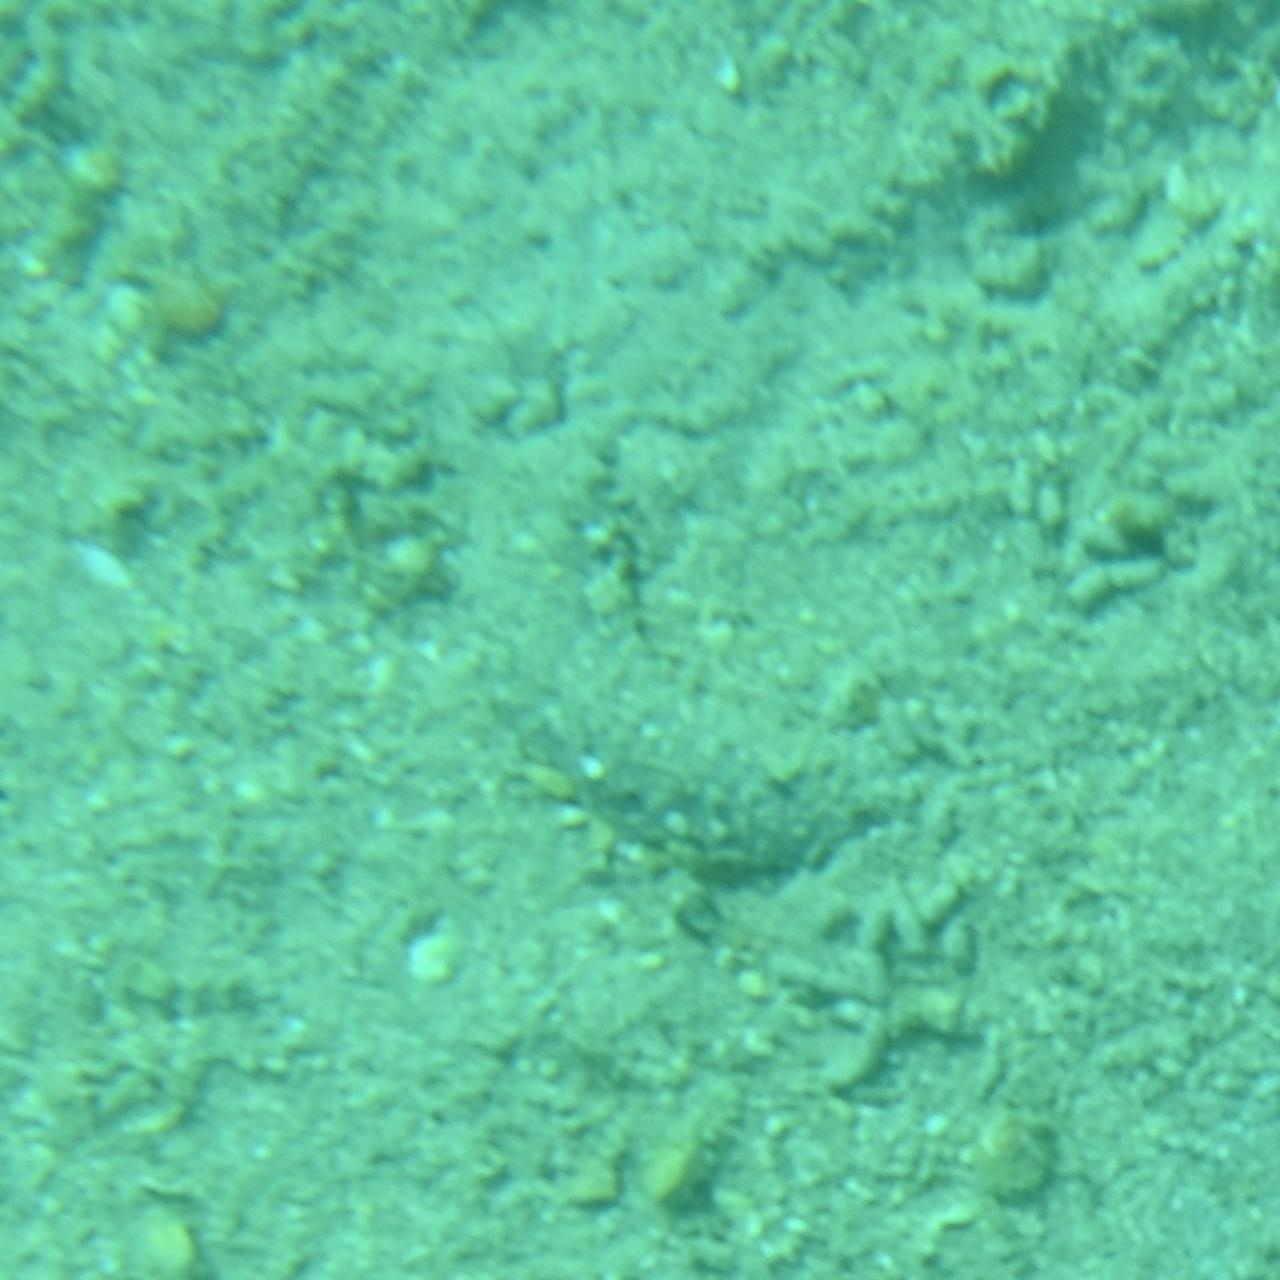Holothuria tubulosa: (364, 386, 916, 894)
